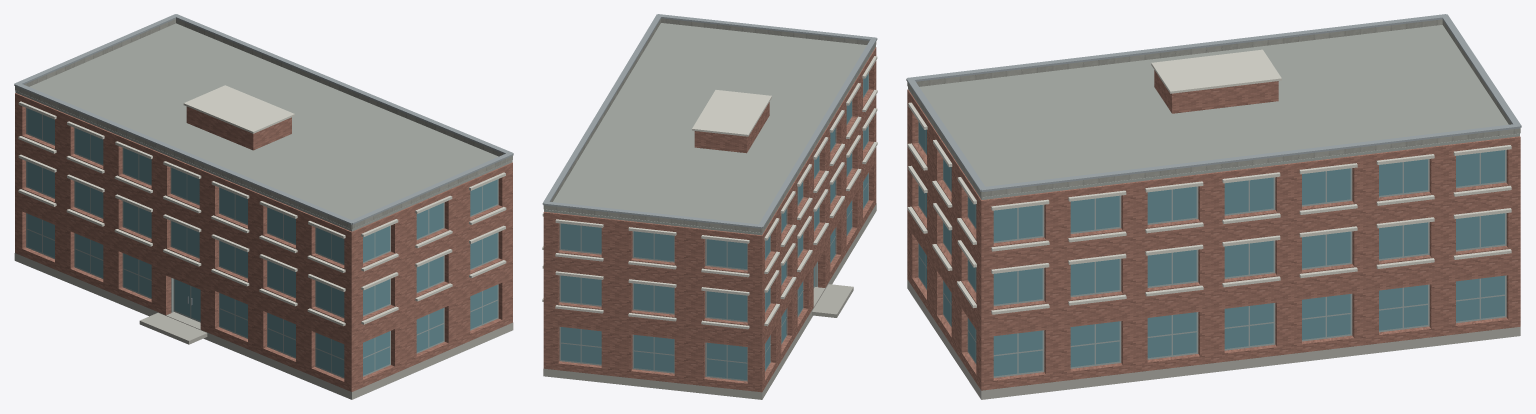
The picture shows the model from 3 angles, left to right: view 1: azimuth 30°, elevation 25°; view 2: azimuth 150°, elevation 25°; view 3: azimuth 270°, elevation 25°; orthographic projection. The views are drawn at different scales.
Parts seen in each view (by area): view 1: library__brick, library__roof, library__glass, library__white, library__metal, library__threshold-entry, library__stone, library__frame; view 2: library__brick, library__roof, library__glass, library__white, library__metal, library__threshold-entry, library__frame, library__stone; view 3: library__brick, library__roof, library__glass, library__white, library__metal, library__frame, library__stone, library__threshold-entry.
Boxes of the visible parts, box(x1,y1,x2,y2) form: library__brick: box(15, 93, 512, 391); library__roof: box(15, 23, 512, 231); library__glass: box(27, 108, 497, 376); library__white: box(18, 85, 506, 326); library__metal: box(14, 14, 513, 305); library__threshold-entry: box(14, 253, 513, 399); library__stone: box(15, 19, 512, 229); library__frame: box(26, 108, 498, 378); library__brick: box(543, 47, 876, 392); library__roof: box(544, 23, 875, 235); library__glass: box(561, 74, 868, 379); library__white: box(542, 56, 877, 329); library__metal: box(542, 14, 877, 228); library__threshold-entry: box(543, 203, 876, 399); library__frame: box(559, 73, 868, 381); library__stone: box(543, 18, 876, 232); library__brick: box(907, 70, 1520, 390); library__roof: box(908, 25, 1519, 199); library__glass: box(919, 122, 1504, 376); library__white: box(907, 49, 1511, 314); library__metal: box(906, 14, 1521, 191); library__frame: box(918, 121, 1506, 377); library__stone: box(907, 19, 1520, 197); library__threshold-entry: box(907, 279, 1520, 399).
Bounding box in the file's own units: 20.37 × 12.26 × 29.99.
9 materials, 2 textured.
